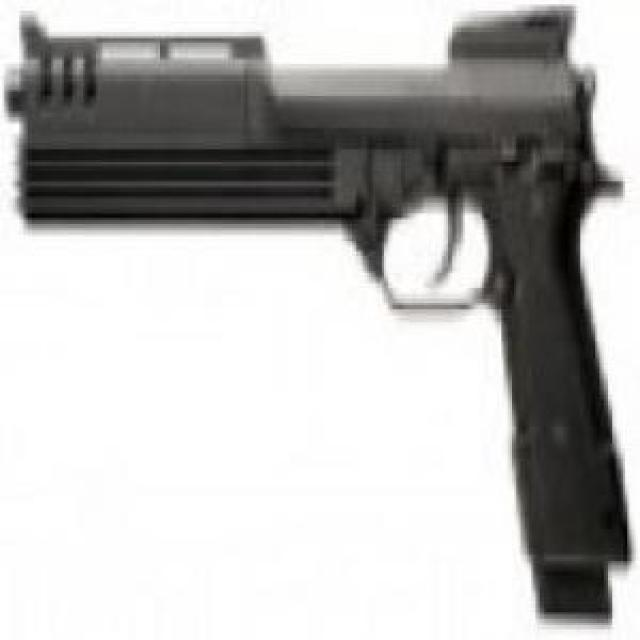pistol: (9, 6, 636, 577)
